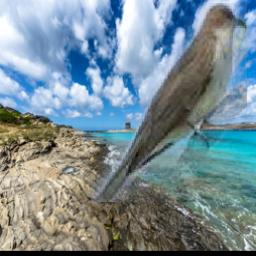Cuckoo: (92, 3, 248, 202)
